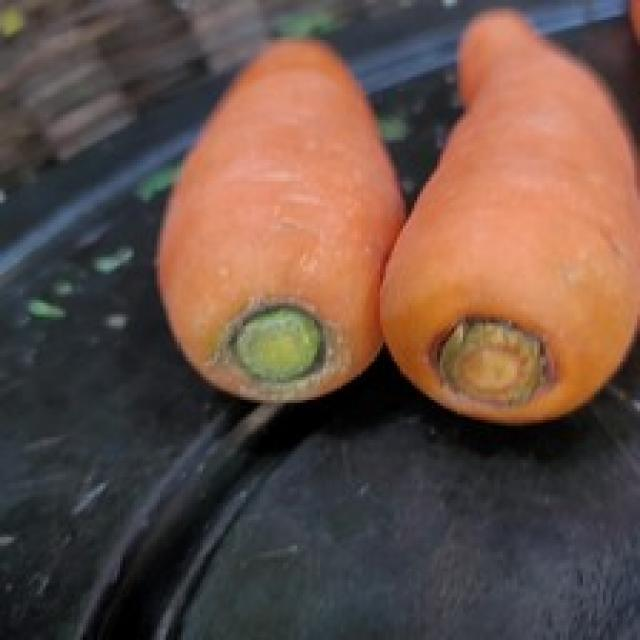carrot: (380, 7, 640, 426), (160, 29, 403, 406)
